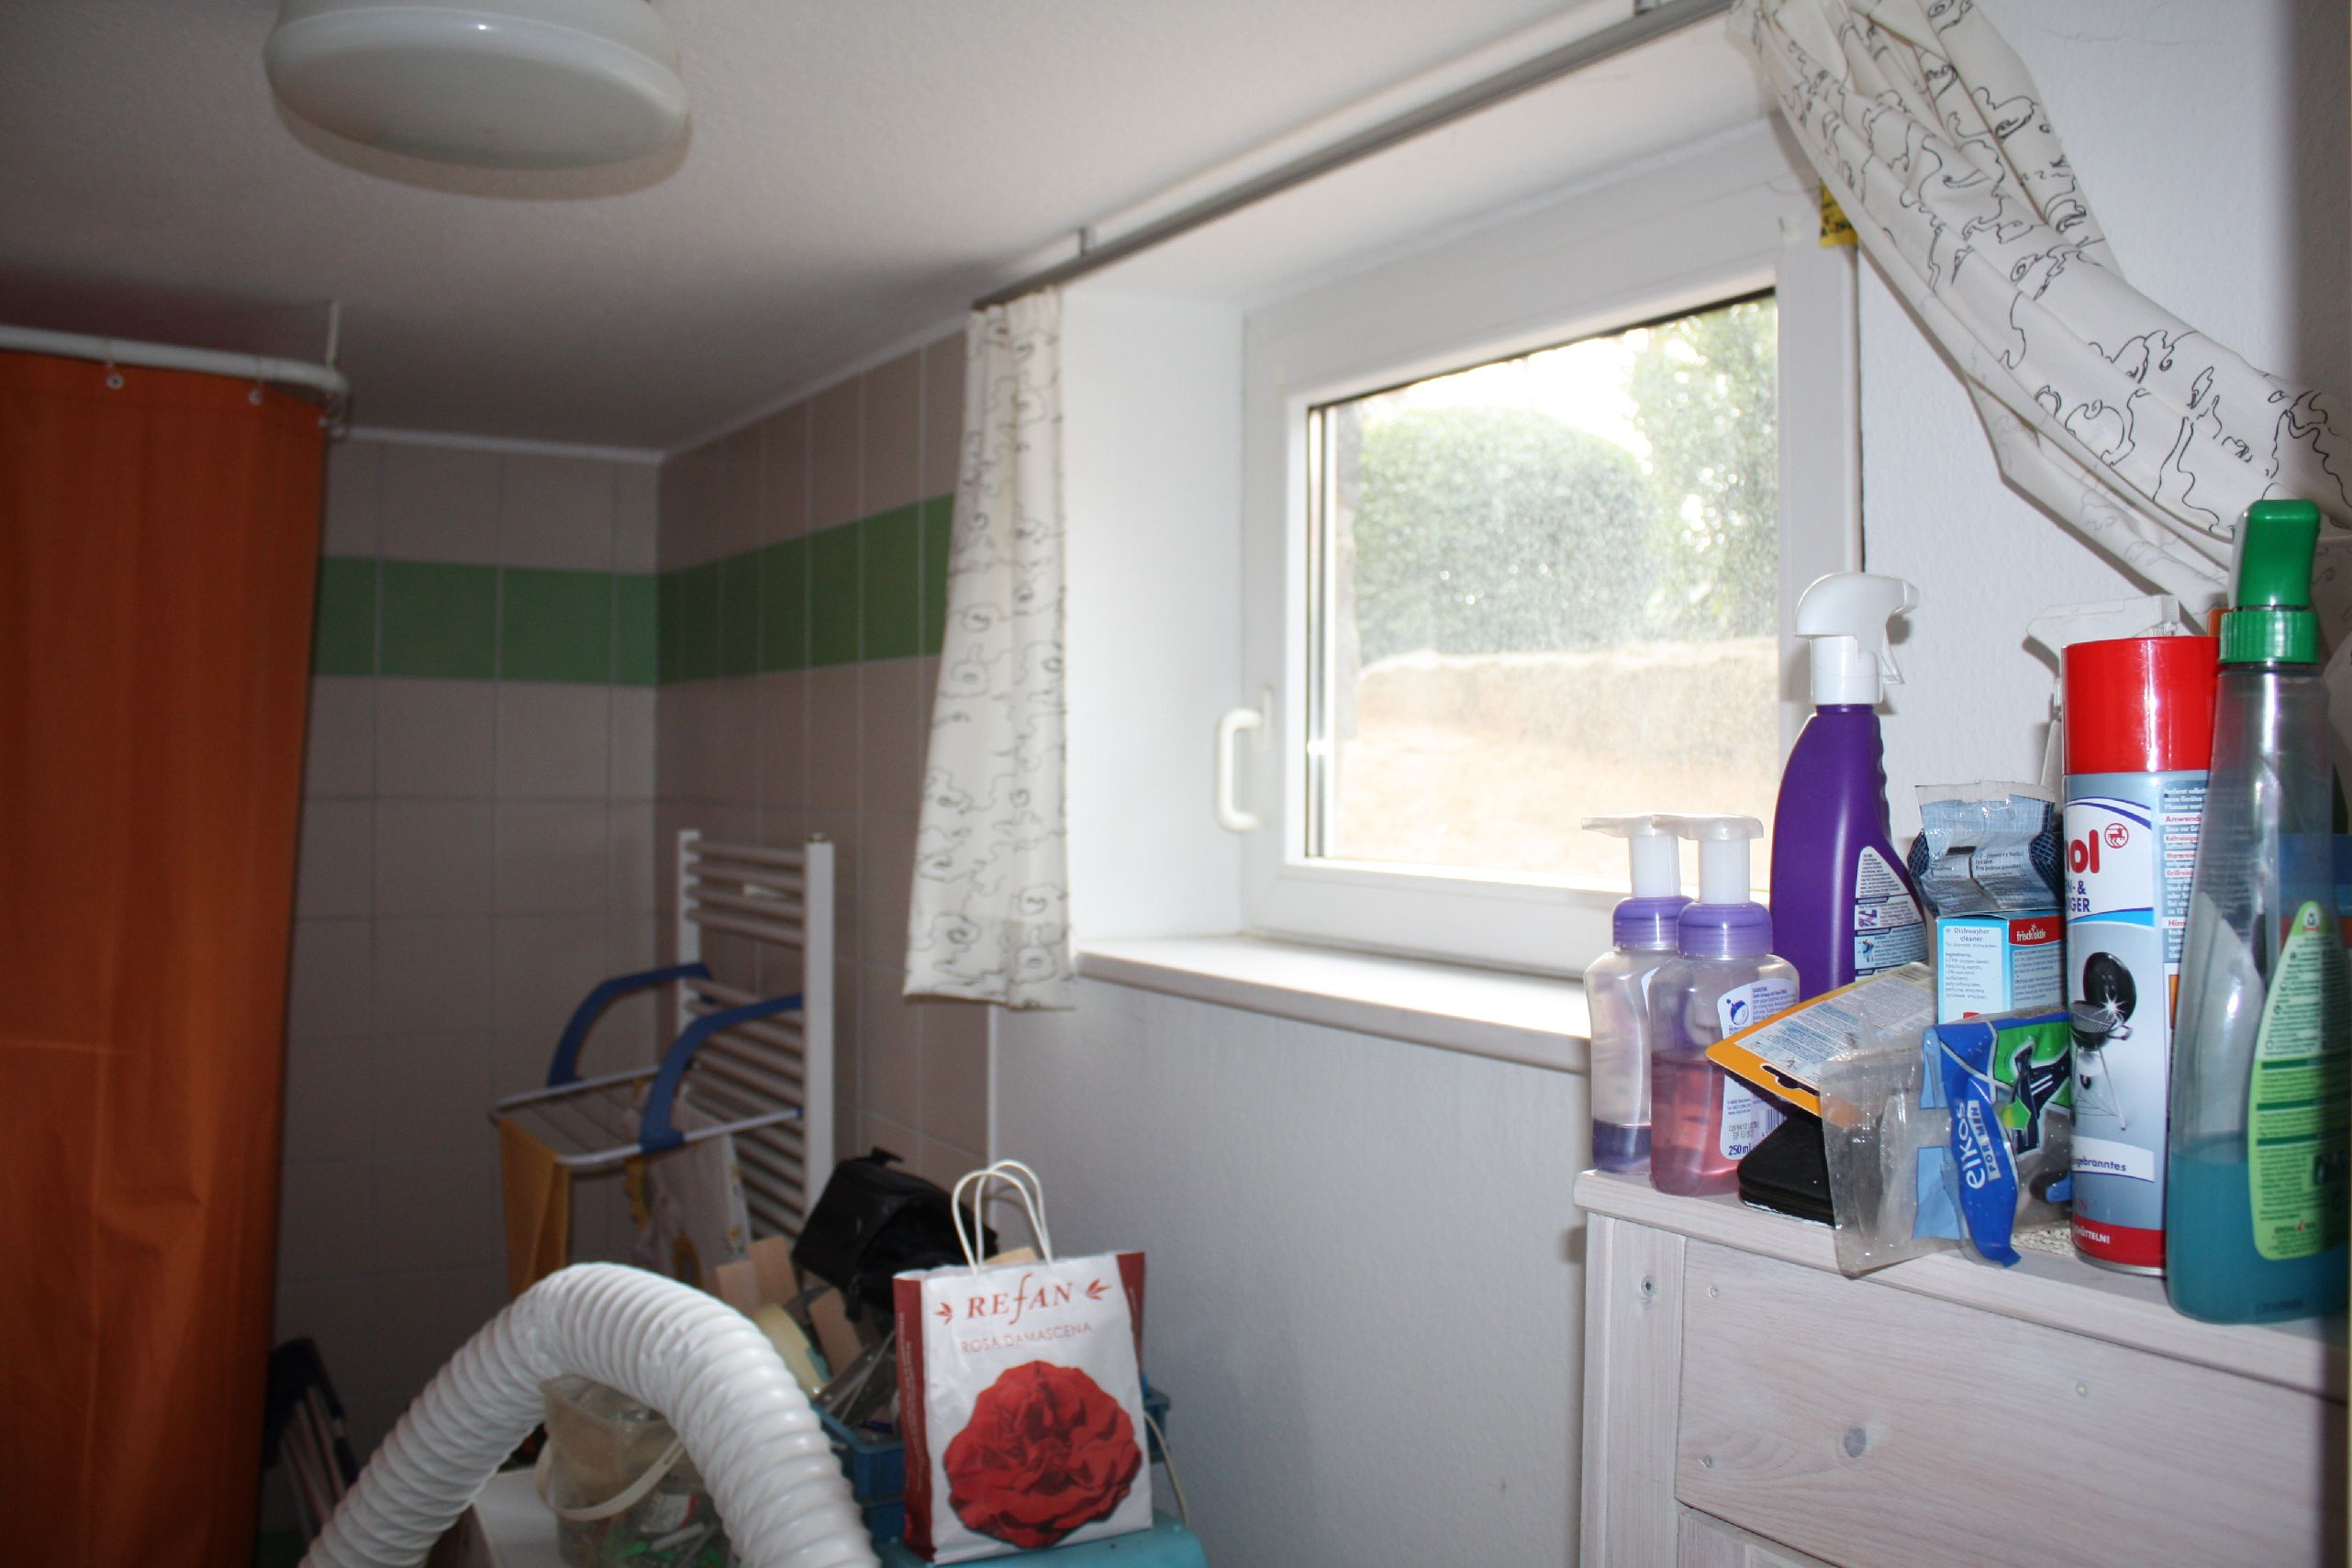windows: (1227, 334, 1794, 961)
